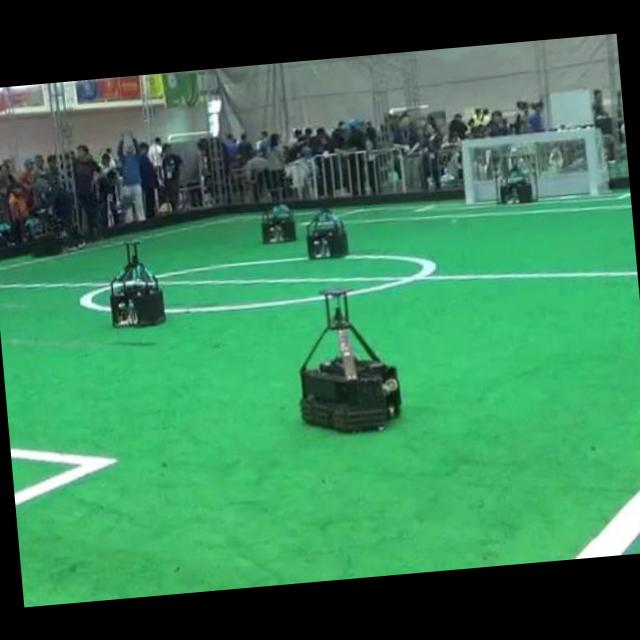goal: (585, 129, 596, 195), (463, 142, 474, 204)
robot: (299, 289, 399, 430), (109, 242, 164, 325), (307, 200, 348, 256), (495, 152, 538, 202), (262, 185, 294, 243)
